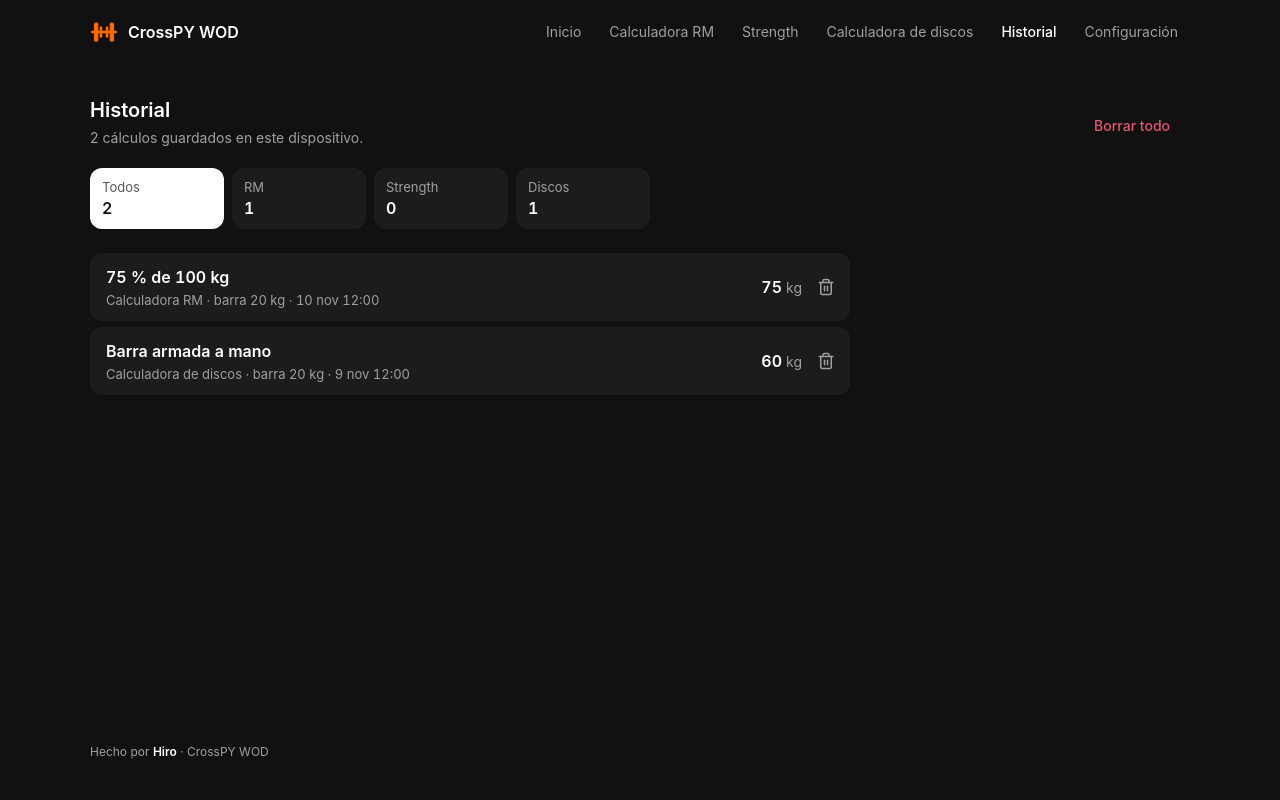
Test case: Configuración e historial › lista, filtra y elimina registros del historial
Expected: the text "75 % de 100 kg" is shown, top-left (106, 267), bottom-right (229, 287)
Click the radio button labelled "Discos 1" at (583, 198), box top-left (516, 168), bottom-right (650, 229)
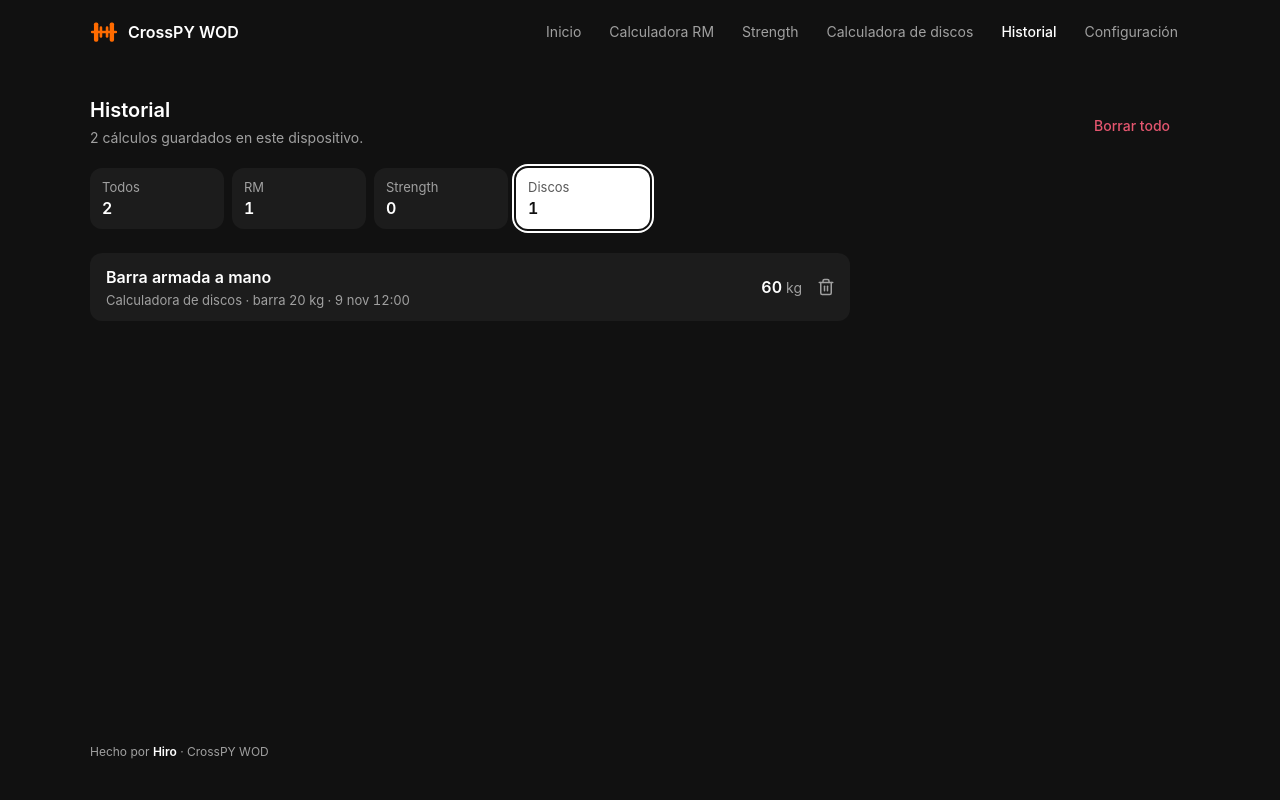
Expected: the button "75 % de 100 kg" is gone
Click the button named "Eliminar: Barra armada a mano" at (826, 287), box top-left (802, 253), bottom-right (850, 321)
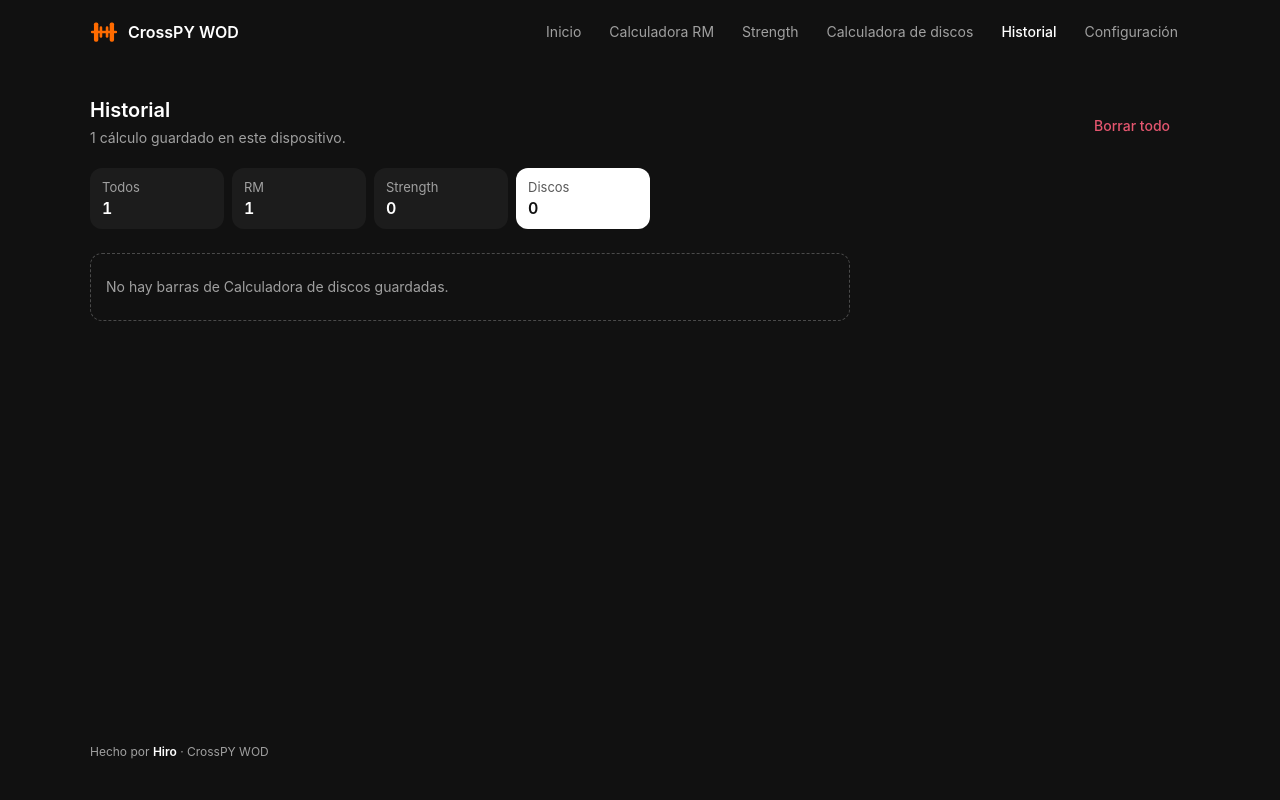
Expected: the text "No hay barras de Calculadora de discos guardadas." is shown, top-left (106, 278), bottom-right (449, 295)
